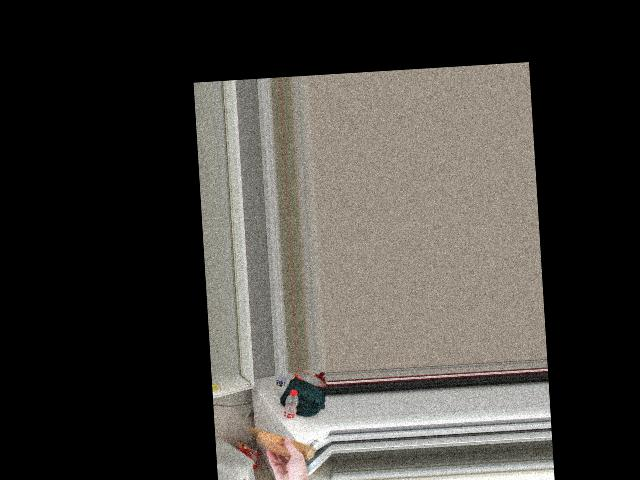sweet_potato: (263, 426, 311, 462)
